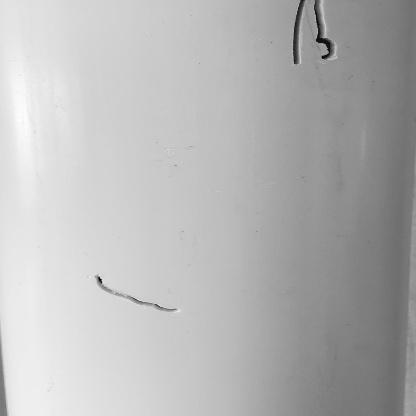fengxi: (293, 2, 343, 70)
sunshang: (87, 266, 179, 319)
